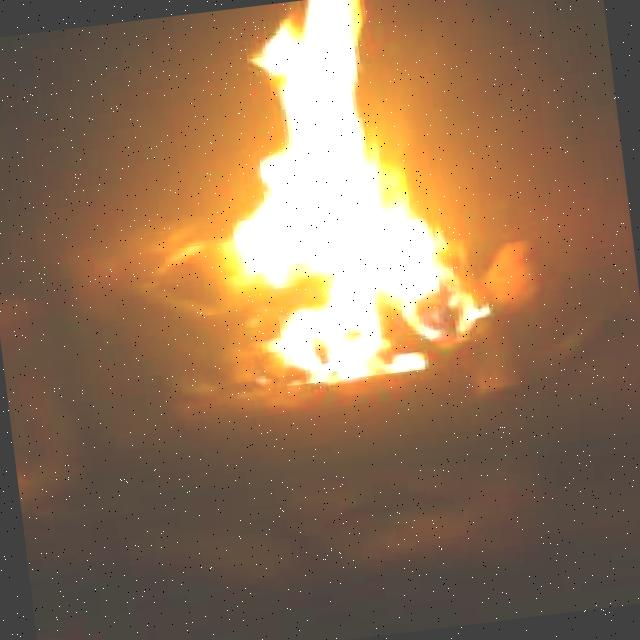fire: (179, 0, 494, 402)
